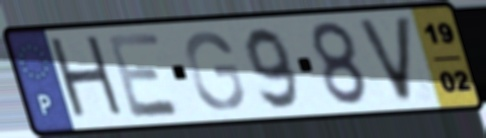8: (307, 19, 372, 108)
9: (242, 24, 304, 111)
E: (103, 29, 185, 121)
G: (182, 29, 247, 113)
H: (45, 32, 130, 125)
V: (353, 13, 415, 106)
